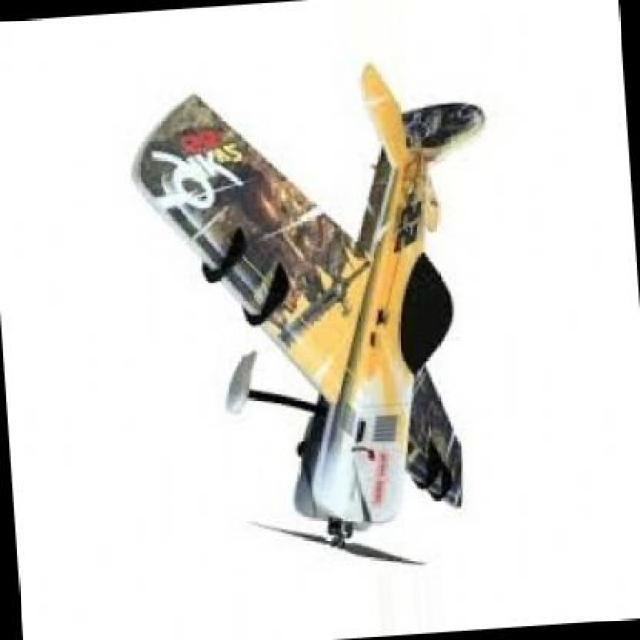iha: (121, 17, 492, 634)
